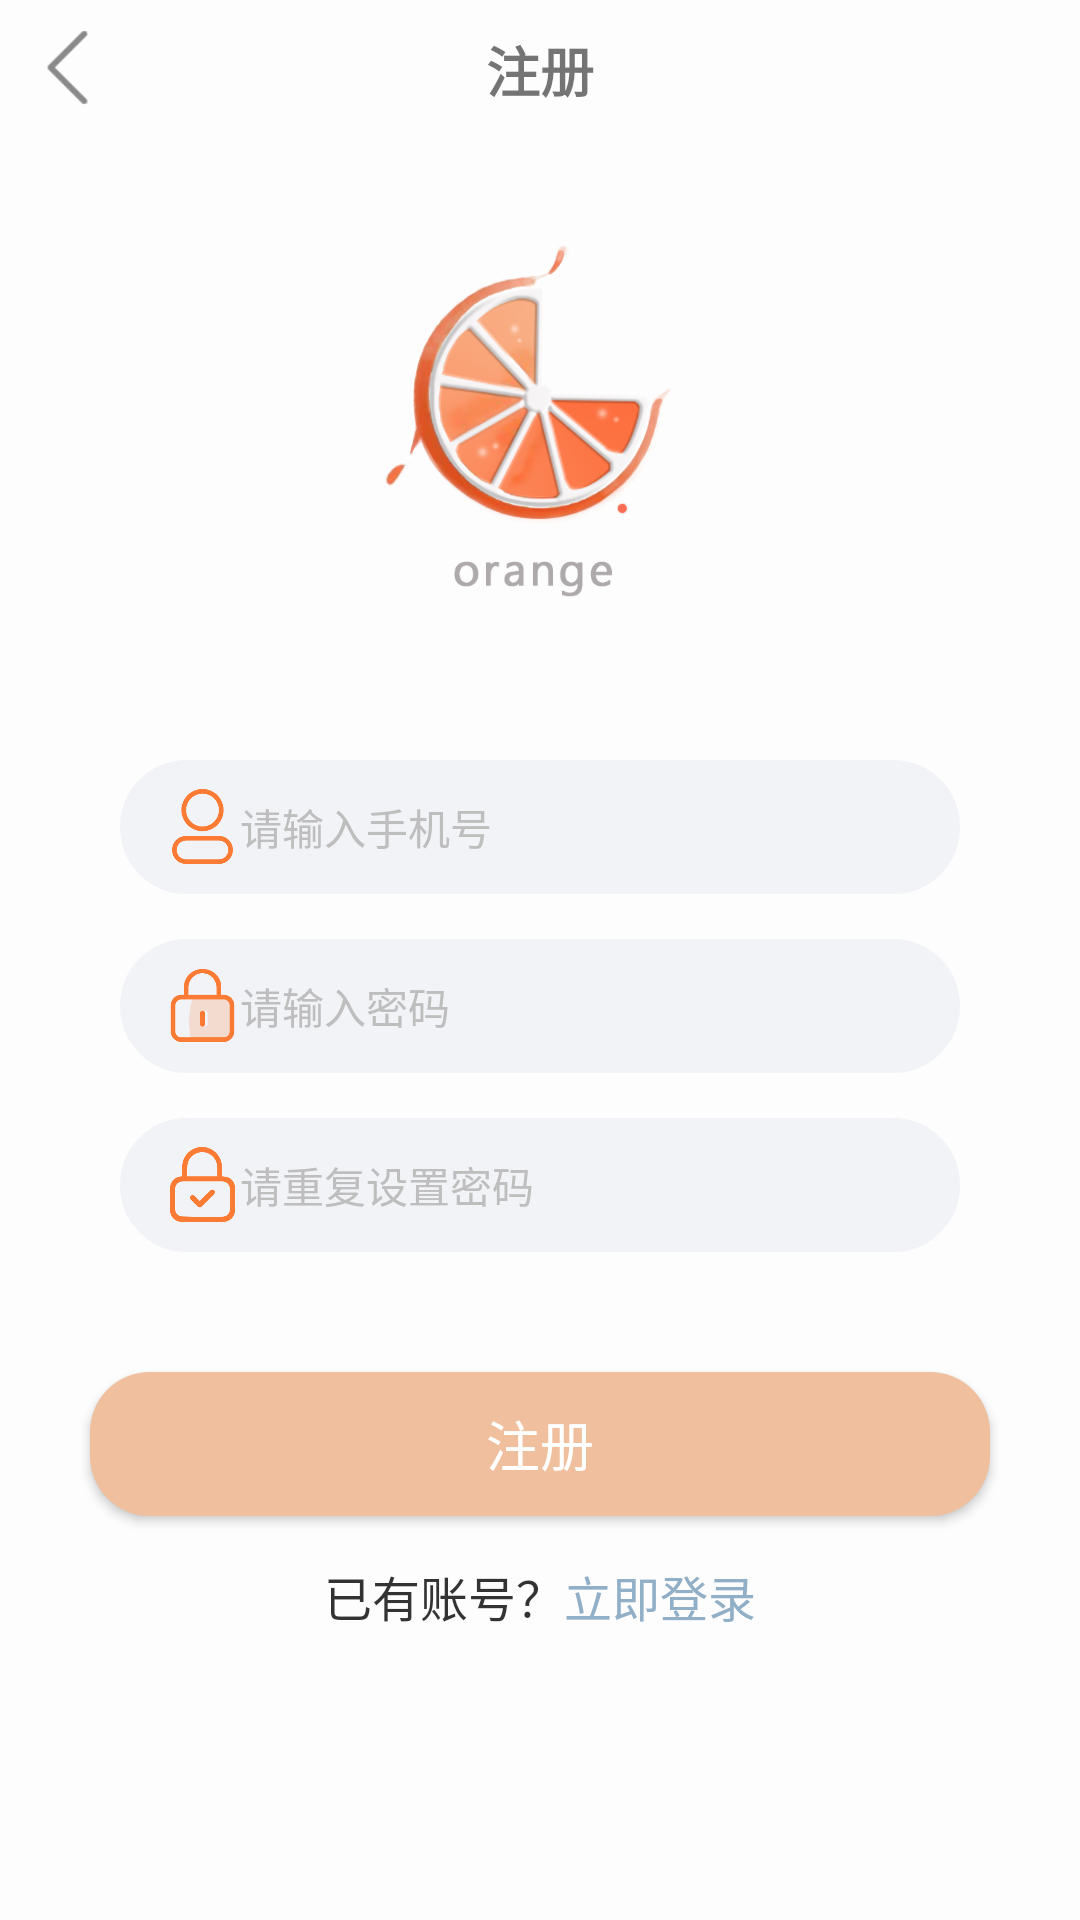

Where to tap for icons on this 1080px×1920px app screen, as (x=x, y=y):
back page: (x=67, y=67)
confirm password: (x=202, y=1184)
login register edit password: (x=202, y=1005)
login register edit user: (x=202, y=826)
